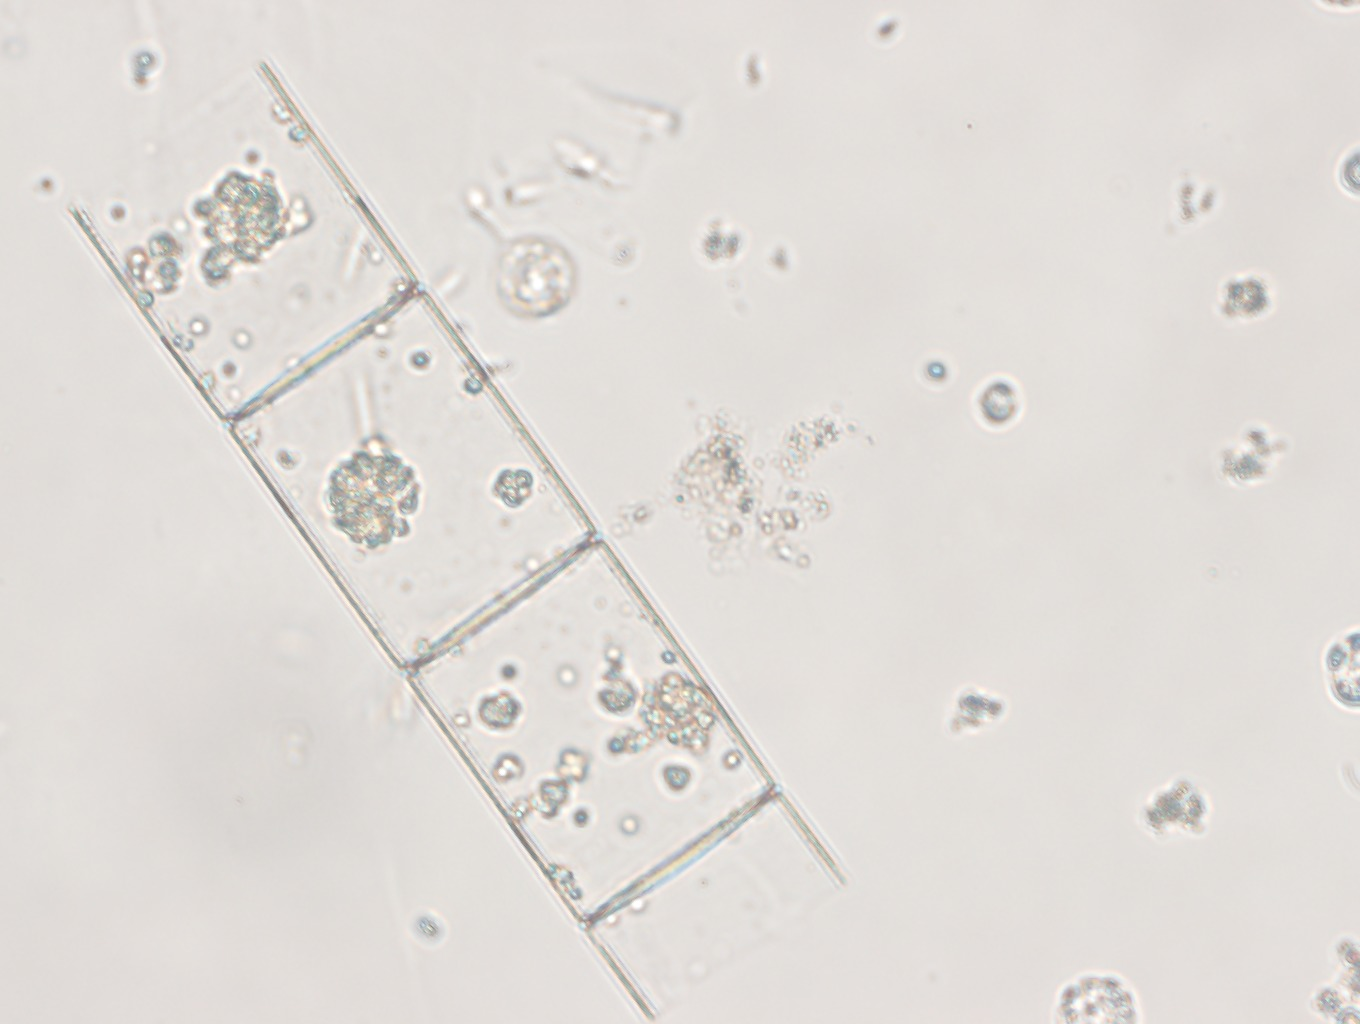guinardia flaccida: (40, 43, 851, 1008)
